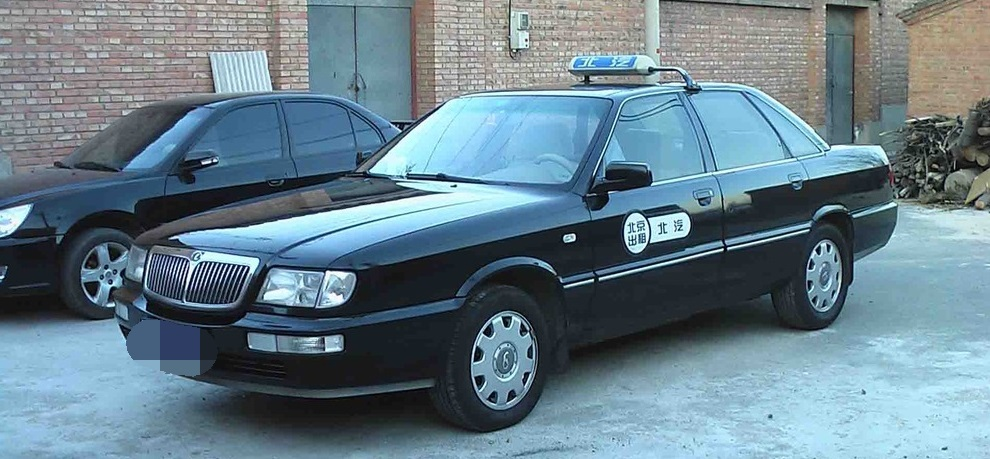taxi: (109, 49, 898, 437)
